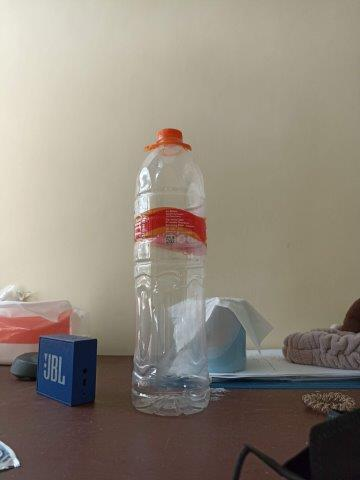botolplastik: (134, 128, 207, 413)
